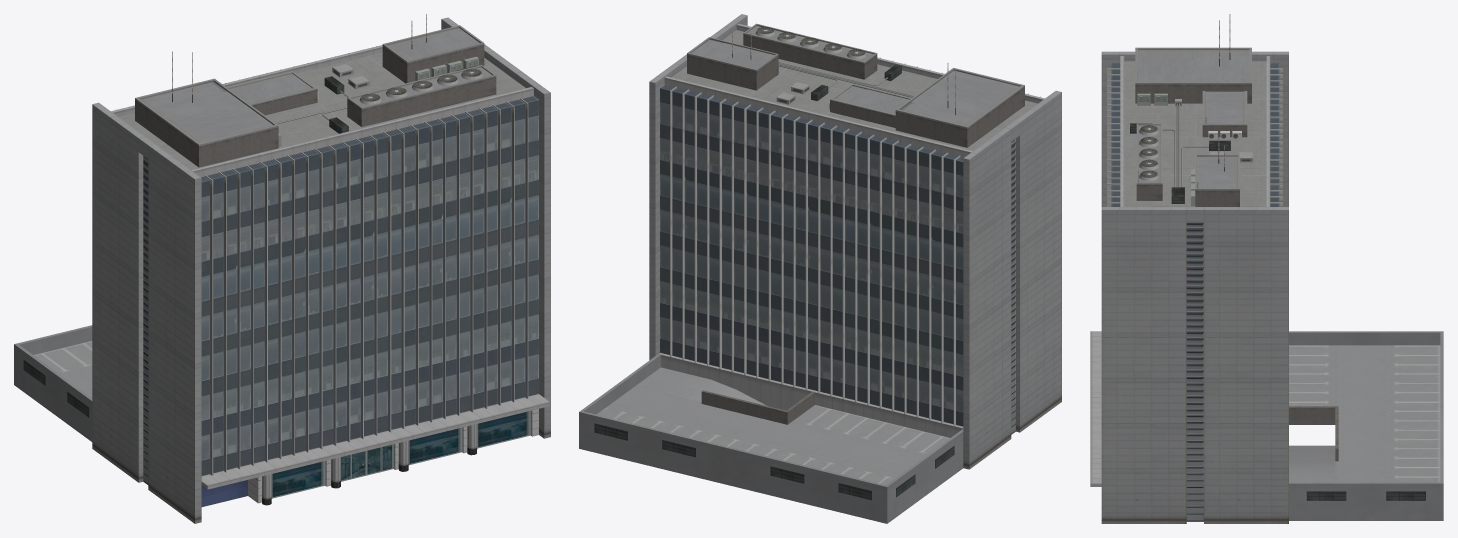
The model's file is building-d.glb.
The picture shows the model from 3 angles, left to right: view 1: azimuth 30°, elevation 25°; view 2: azimuth 150°, elevation 25°; view 3: azimuth 270°, elevation 25°; orthographic projection. The views are drawn at different scales.
Parts seen in each view (by area): view 1: AIT01W2W2; view 2: AIT01W2W2; view 3: AIT01W2W2.
Part boxes in pixels (left/top/right/bottom): AIT01W2W2: left=14, top=14, right=550, bottom=523; AIT01W2W2: left=579, top=14, right=1061, bottom=523; AIT01W2W2: left=1090, top=14, right=1443, bottom=523.
Bounding box in the file's own units: 2 × 2.21 × 1.89.
1 material, 1 textured.
